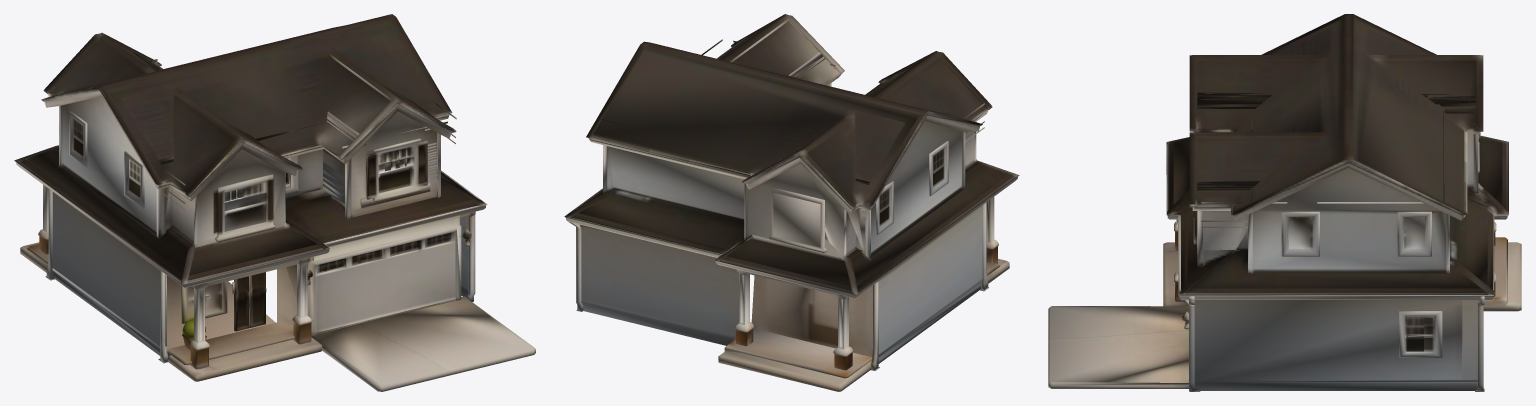
File: house_with_garage_realistic_style_2c418de3_v1.glb
3 views of the same model, side by side, from view 1: azimuth 30°, elevation 25°; view 2: azimuth 150°, elevation 25°; view 3: azimuth 270°, elevation 25° (orthographic). The views are drawn at different scales.
Parts seen in each view (by area): view 1: material; view 2: material; view 3: material.
Part boxes in pixels (x1=…): material: x1=14, y1=14, x2=535, y2=391; material: x1=564, y1=14, x2=1019, y2=391; material: x1=1048, y1=14, x2=1521, y2=391.
Size of the model in its own units: 1.46 by 1.03 by 1.9.
Materials: 1 (1 with a texture image).
